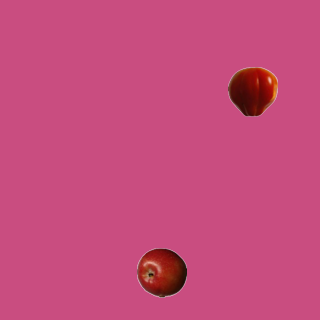Apple Braeburn: (136, 247, 186, 297)
Tomato 1: (227, 66, 277, 116)
